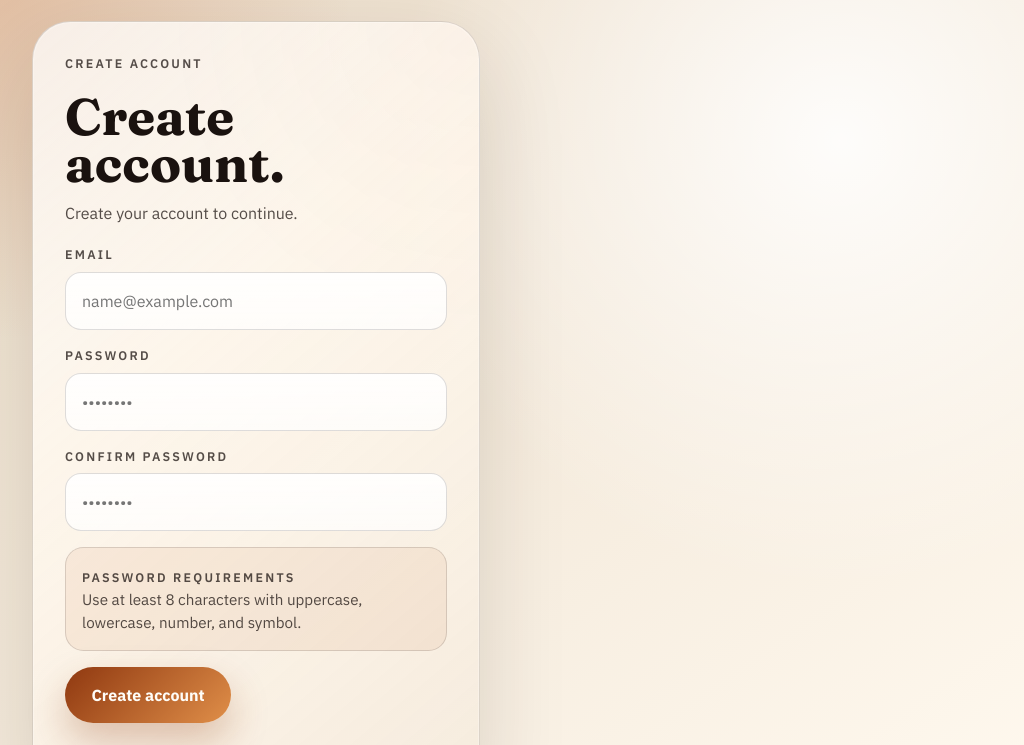
Test: auth feature › auth register blocks weak passwords before submit
The image size is (1024, 745).
Expected: the button "Create account" is shown, [65,667,231,723]
Step 1. Type "weak@example.com" into the field labelled "Email" → (256, 301), box [65,272,447,330]
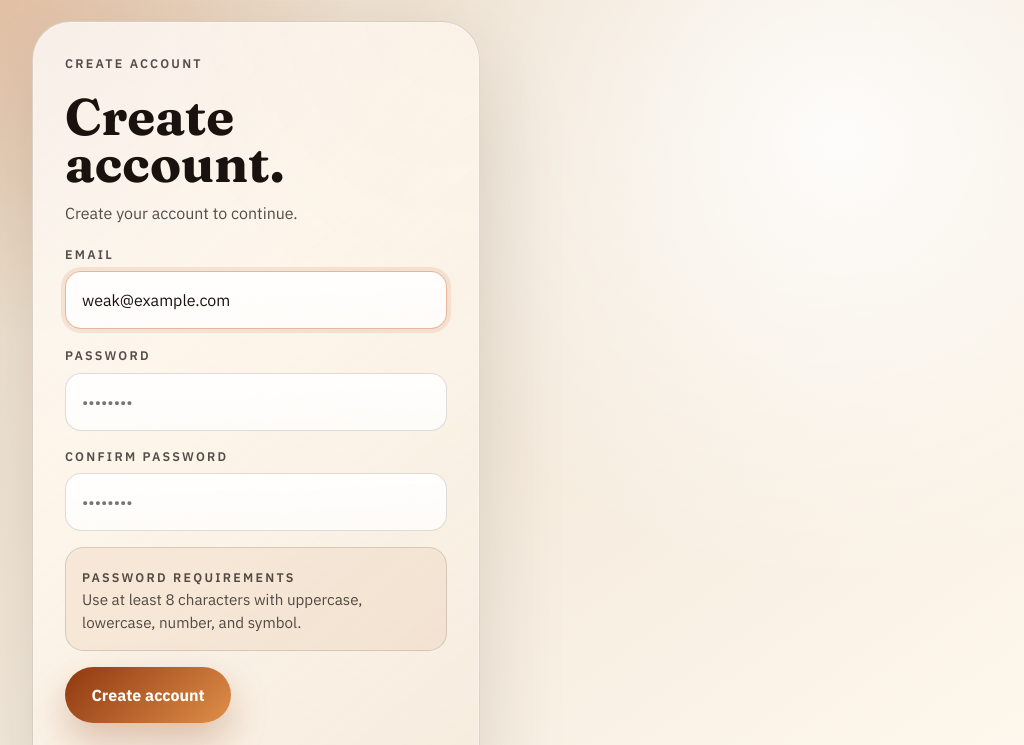
Step 2. Type "weakpass" into the password field labelled "Password" → (256, 402), box [65,373,447,431]
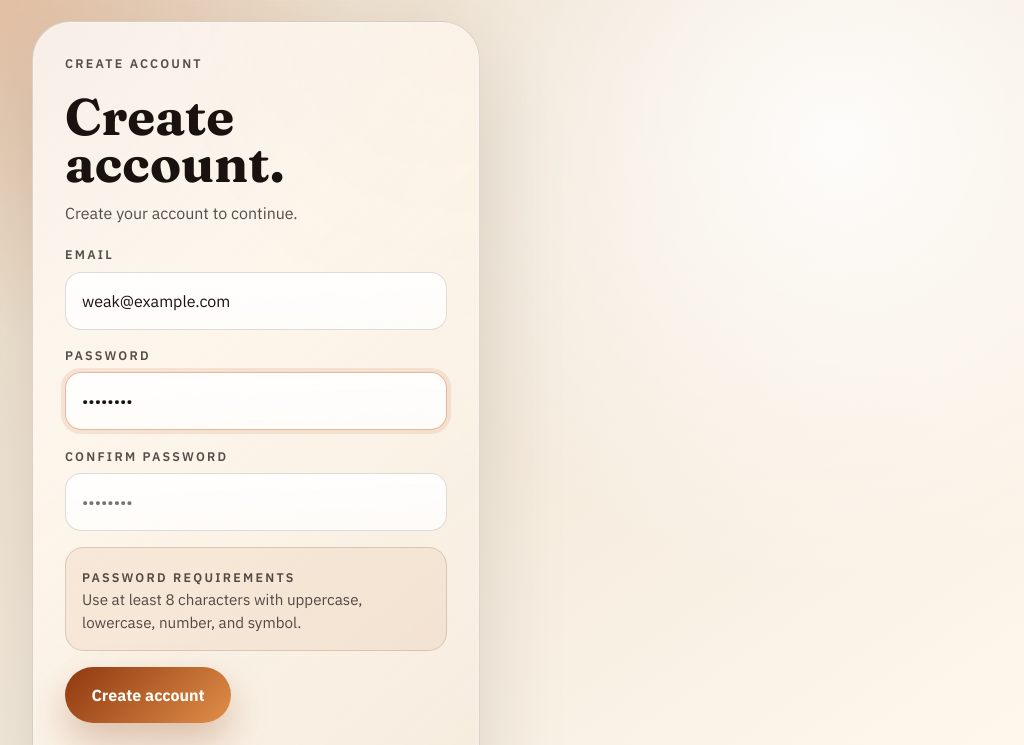
Step 3. Type "weakpass" into the password field labelled "Confirm password" → (256, 502), box [65,474,447,532]
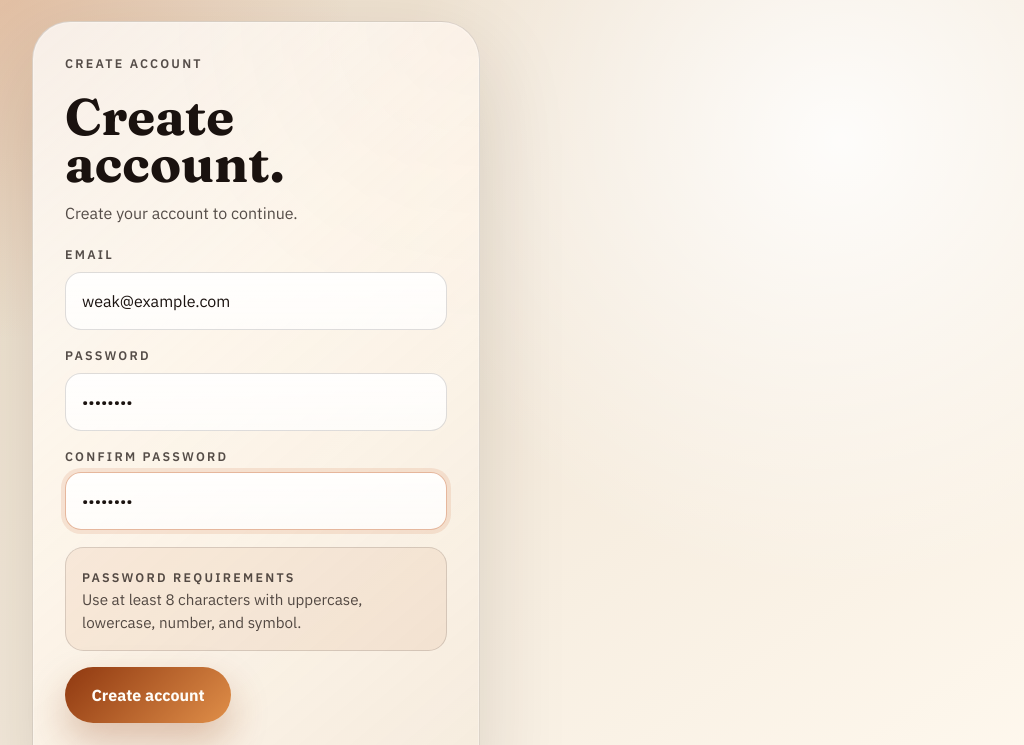
Step 4. Click the button "Create account" → (148, 695), box [65,667,231,723]
(page scrolled)
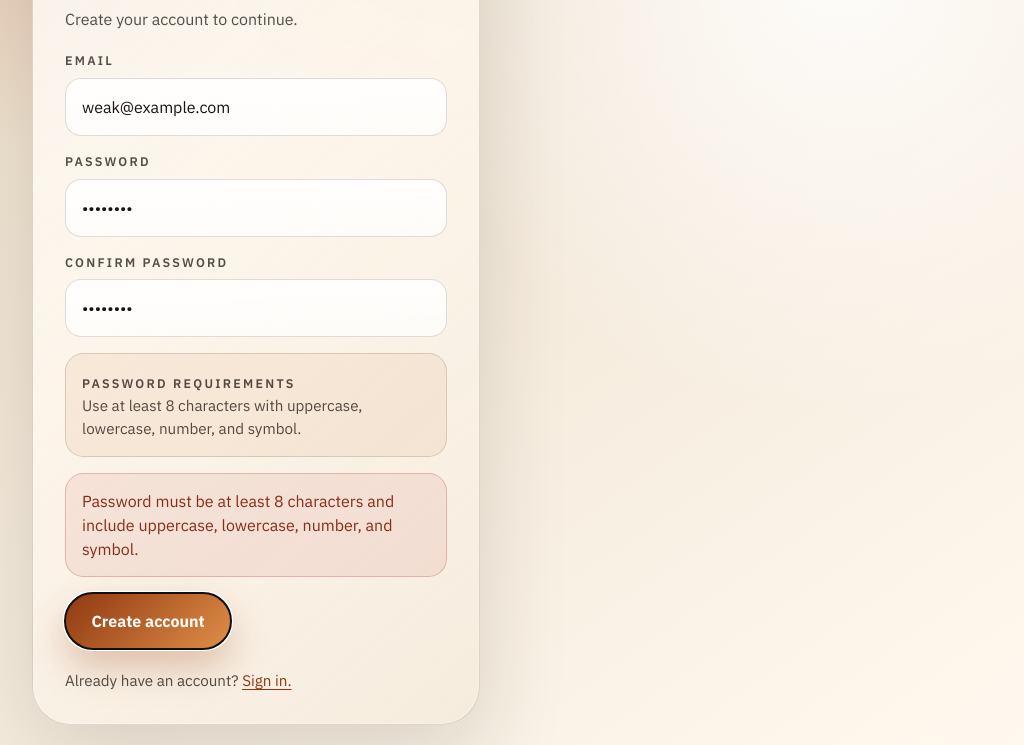
Result: the message shows "password must be at least 8 characters and include uppercase, lowercase, number, and symbol" at [82,491,394,559]
